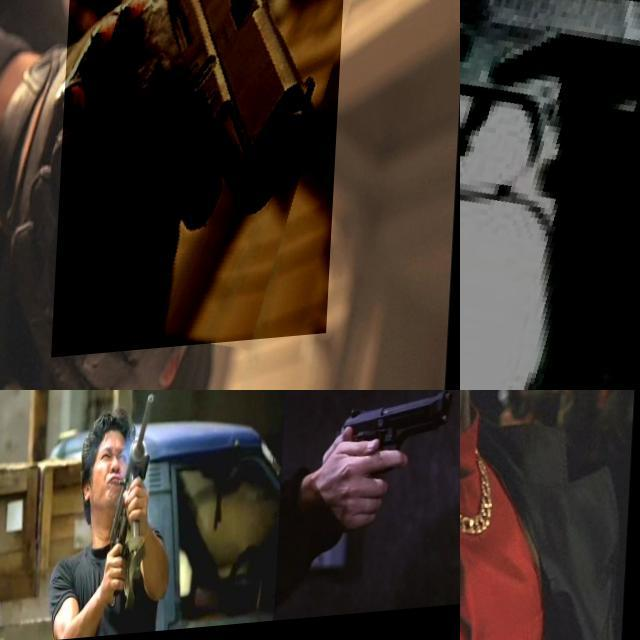gun-knife-thesis - v11 Yolov5 augmented: (56, 0, 349, 361), (460, 0, 640, 390), (460, 390, 596, 640), (331, 394, 456, 539), (78, 390, 215, 502), (105, 390, 164, 623)
